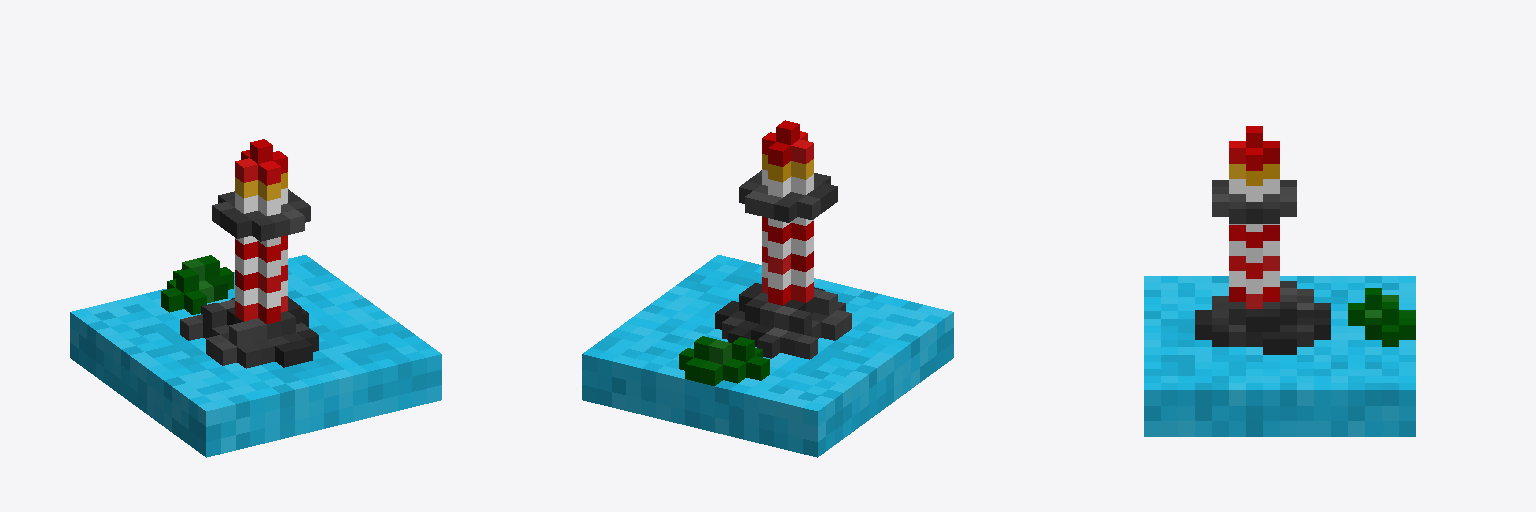
3 views of the same model, side by side, from view 1: azimuth 30°, elevation 25°; view 2: azimuth 150°, elevation 25°; view 3: azimuth 270°, elevation 25° (orthographic).
Parts seen in each view (by area): view 1: Lighthouse; view 2: Lighthouse; view 3: Lighthouse.
Part boxes in pixels (bbox=[...]): Lighthouse: bbox=[70, 139, 441, 457]; Lighthouse: bbox=[582, 120, 953, 457]; Lighthouse: bbox=[1144, 126, 1415, 436].
Bounding box in the file's own units: 16 × 16 × 16.
1 materials, 1 textured.